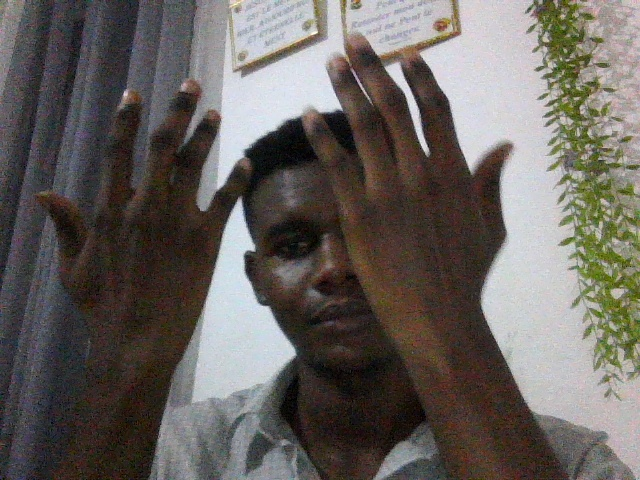hand: (301, 29, 536, 408), (301, 29, 532, 407)
